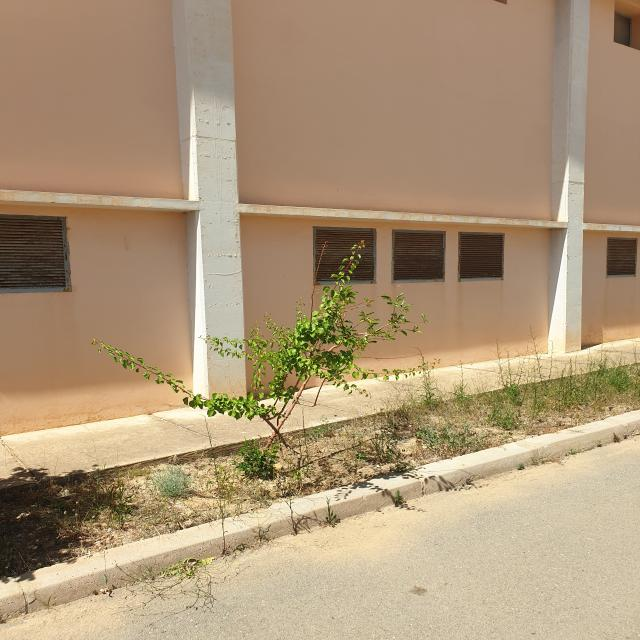Tree: (92, 241, 420, 451)
